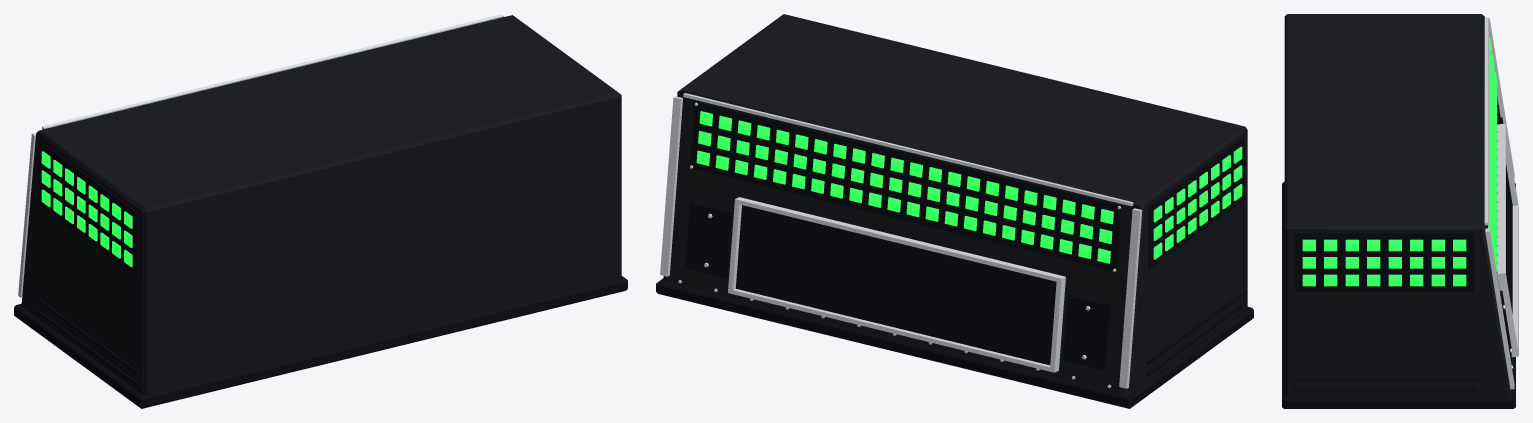
The model's file is deck_led_panel.glb.
3 views of the same model, side by side, from view 1: azimuth 30°, elevation 25°; view 2: azimuth 150°, elevation 25°; view 3: azimuth 270°, elevation 25° (orthographic). The views are drawn at different scales.
Parts seen in each view (by area): view 1: deck_led_panel_deco_body, deck_led_panel_deco_trim, deck_led_panel_deco_led, deck_led_panel_chrome; view 2: deck_led_panel_deco_body, deck_led_panel_deco_trim, deck_led_panel_deco_led, deck_led_panel_chrome; view 3: deck_led_panel_deco_body, deck_led_panel_deco_trim, deck_led_panel_deco_led, deck_led_panel_chrome.
Part boxes in pixels (x1,y1,x2,y2): deck_led_panel_deco_body: (21,15,621,395); deck_led_panel_deco_trim: (14,141,627,408); deck_led_panel_deco_led: (41,151,132,267); deck_led_panel_chrome: (18,14,503,297); deck_led_panel_deco_body: (663,14,1247,395); deck_led_panel_deco_trim: (656,102,1253,408); deck_led_panel_deco_led: (696,111,1242,263); deck_led_panel_chrome: (660,93,1142,388); deck_led_panel_deco_body: (1284,14,1511,396); deck_led_panel_deco_trim: (1282,117,1515,408); deck_led_panel_deco_led: (1302,37,1497,286); deck_led_panel_chrome: (1484,17,1518,389).
Bounding box in the file's own units: 2.14 × 0.8296 × 0.9826.
